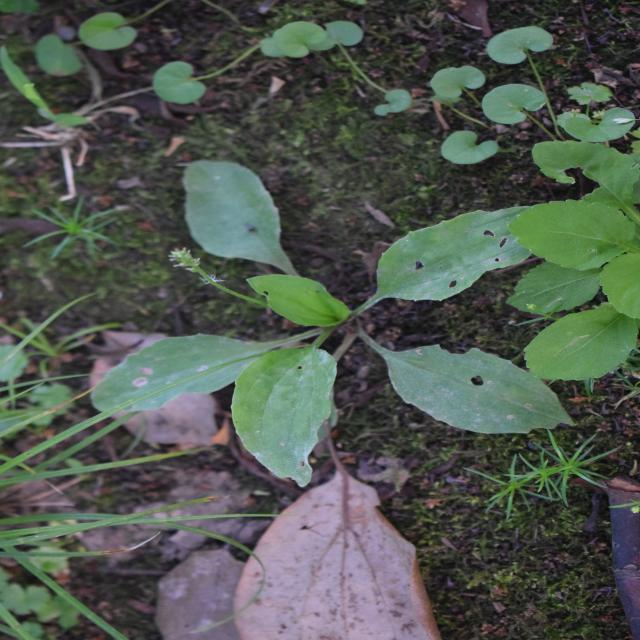plantain: (170, 108, 462, 533)
